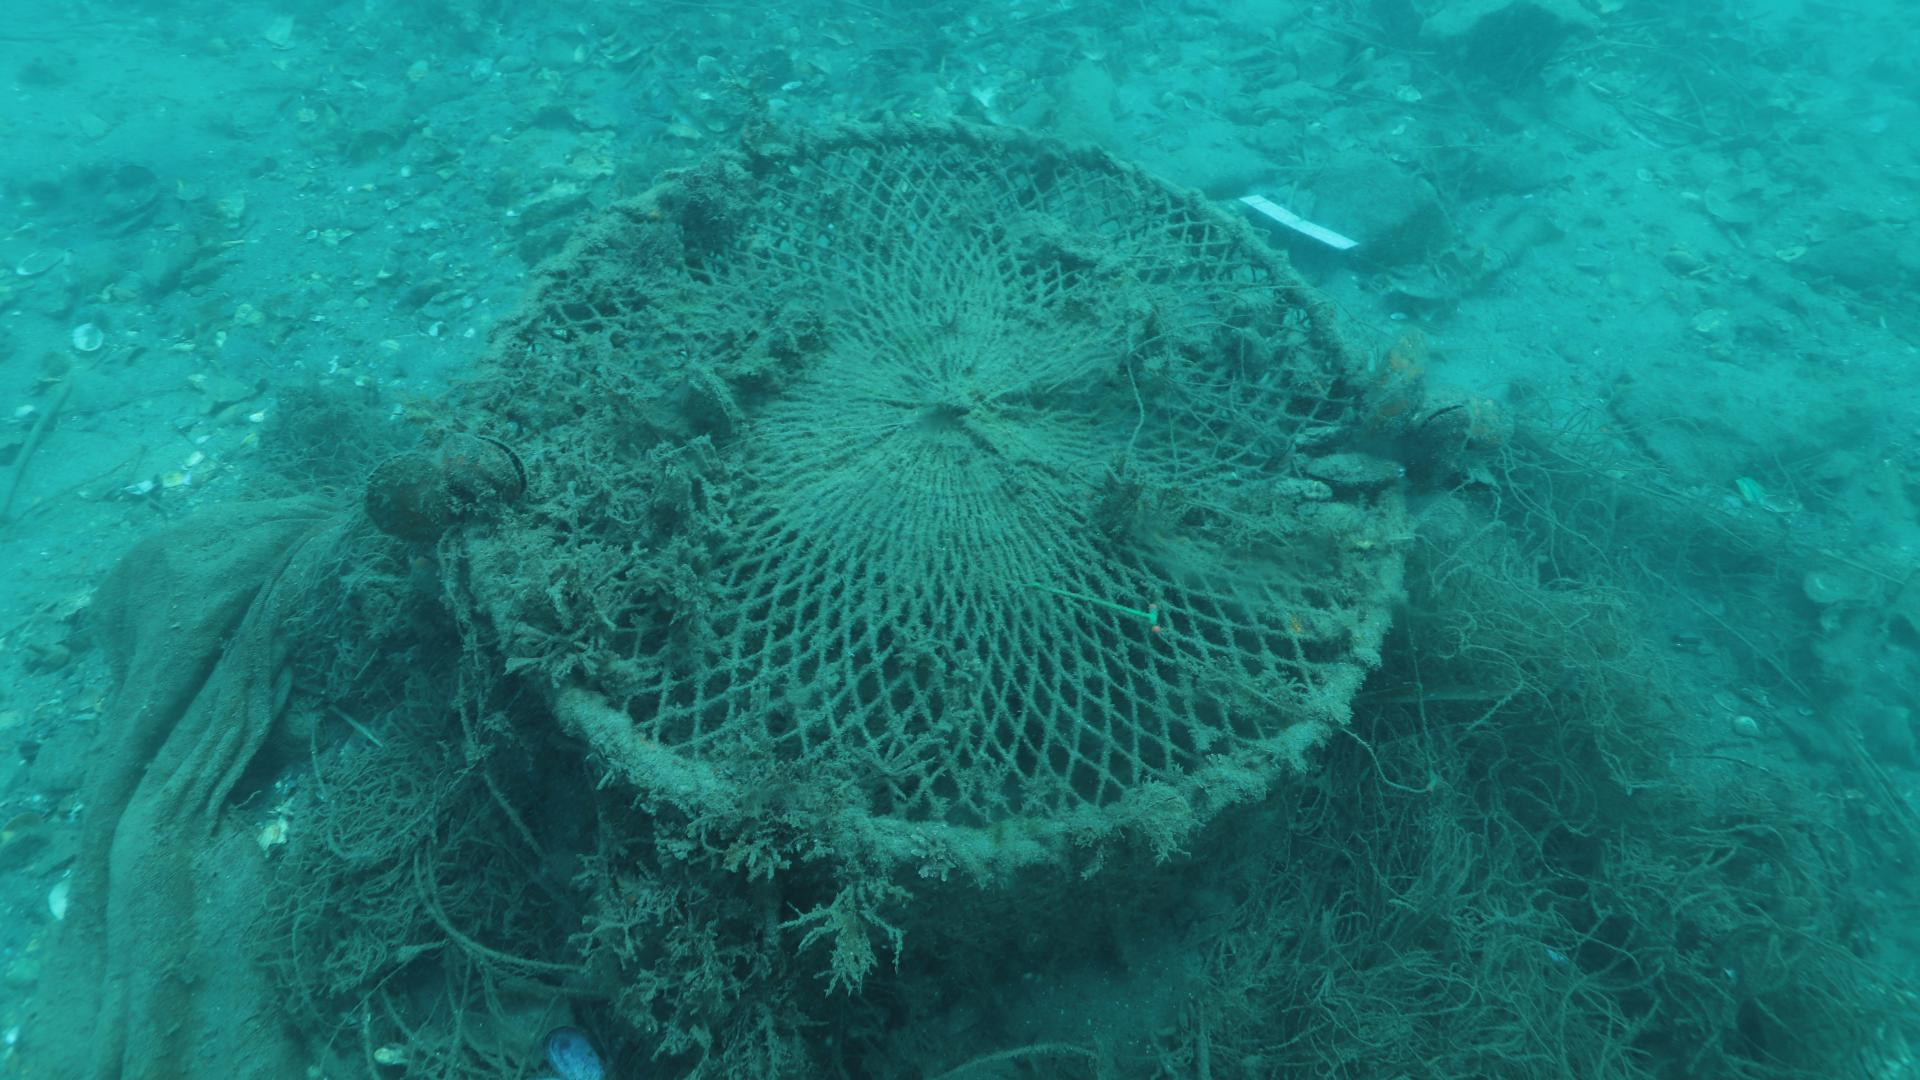circular fish trap: (447, 111, 1423, 1011)
